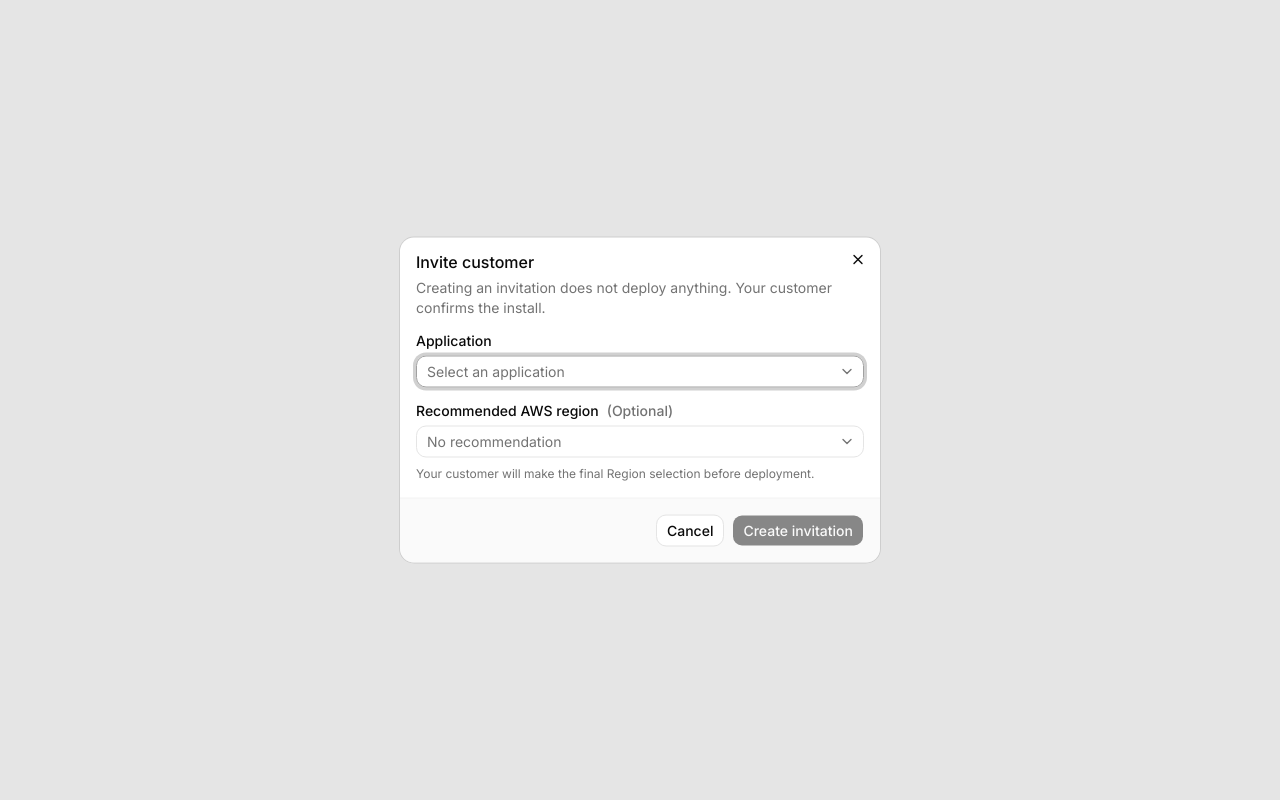
Test case: InvitationDialog › shows the server error message when creation fails
Press the mouse on the dropdown labelled "Select an application" at (496, 371), box [416,356,864,388]
Click the dropdown labelled "Select an application". click: (496, 371)
box: [416,356,864,388]
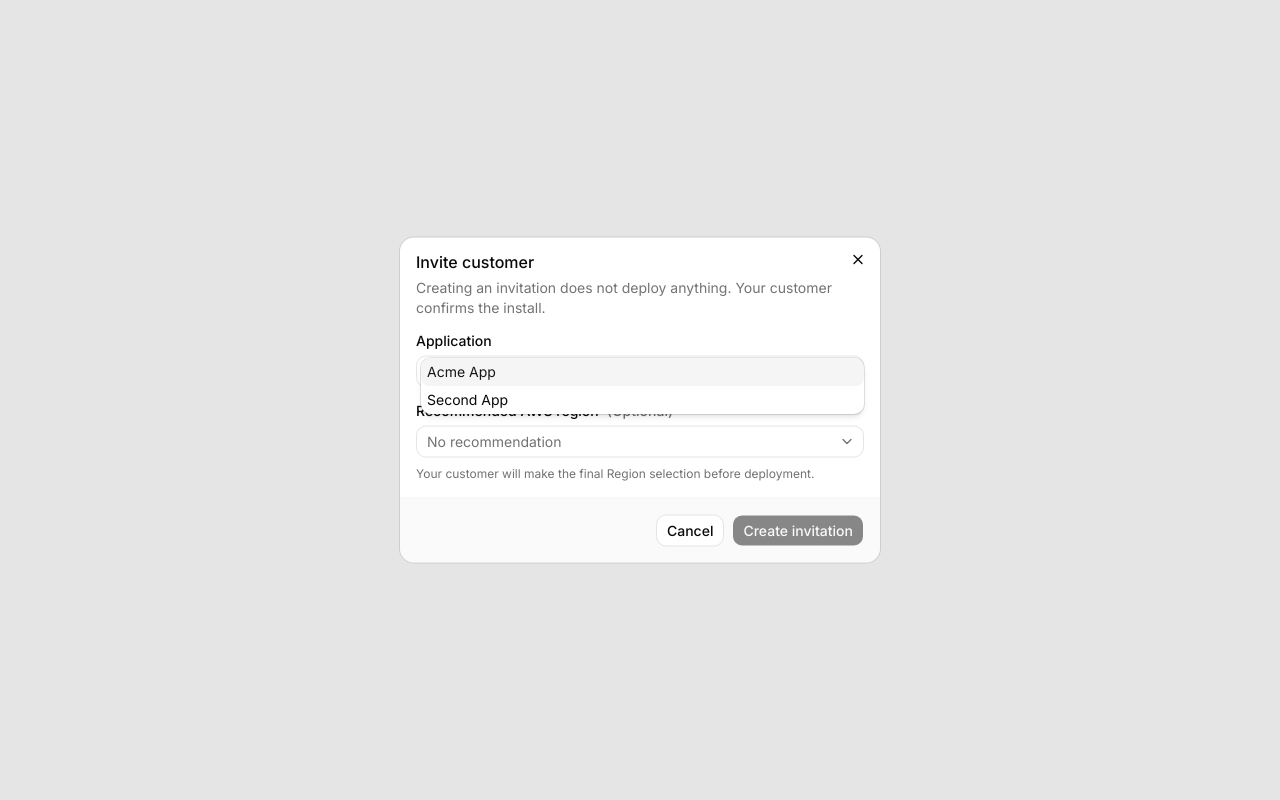
Press the mouse on the option "Acme App" at (461, 371), box [421,358,864,386]
Click the option "Acme App". click: (461, 371)
box: [421,358,864,386]
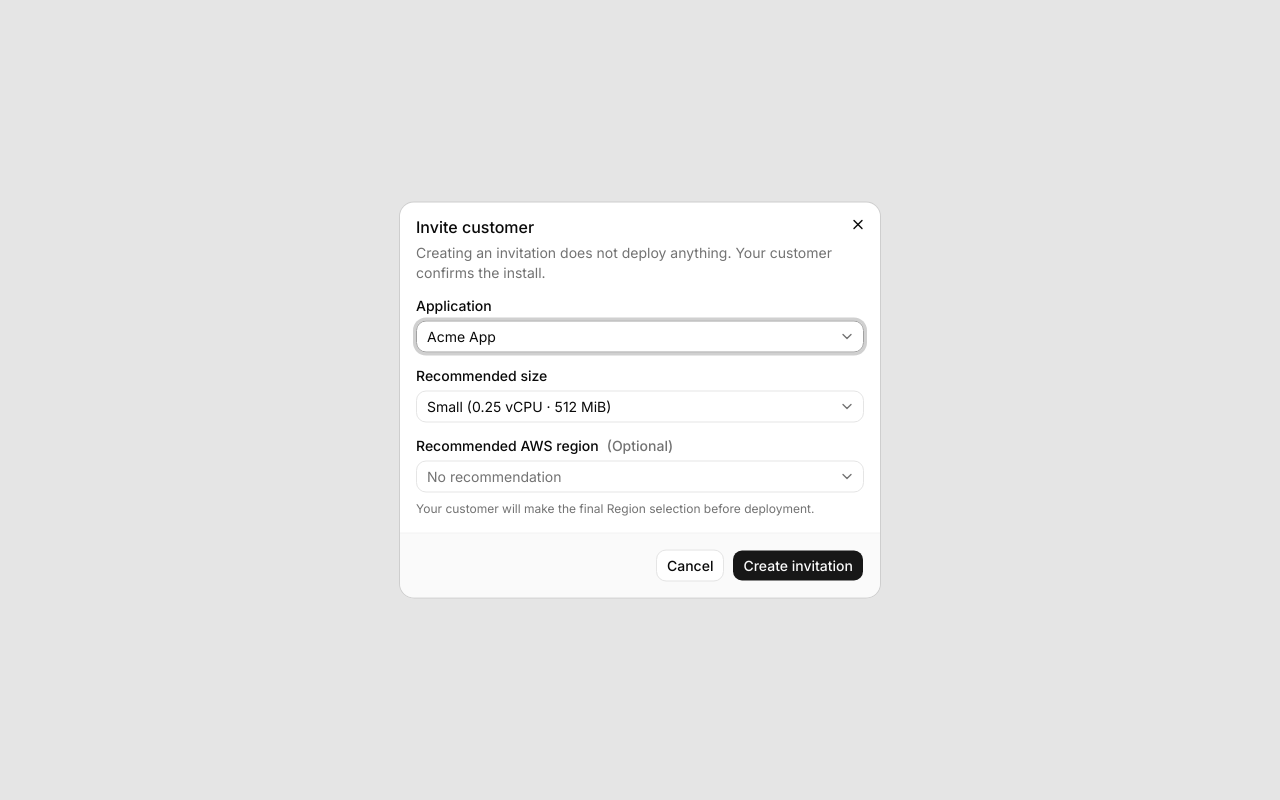
Click the button "Create invitation". click: (798, 566)
box: [732,550,864,582]
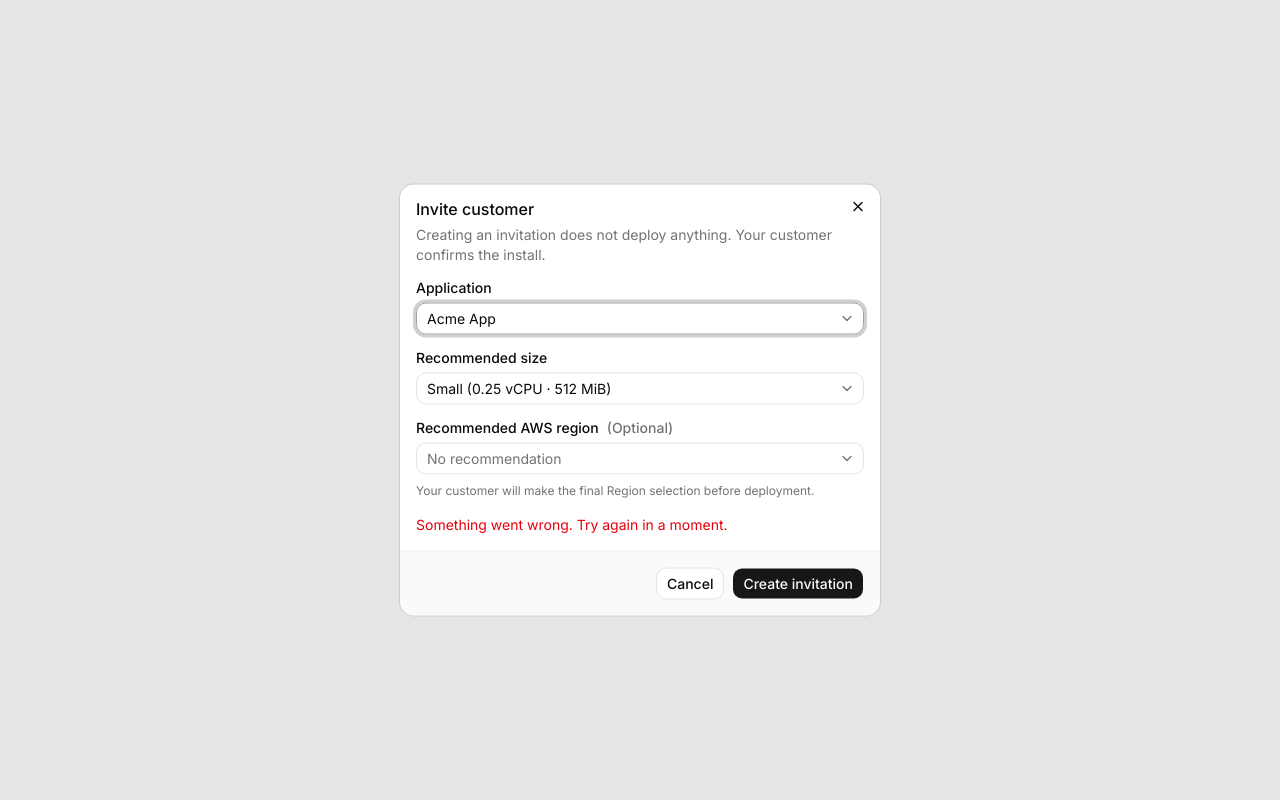
Now the text "Something went wrong. Try again in a moment." is shown, box [416,516,728,532]
